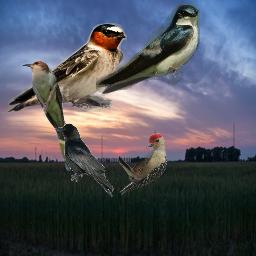Crow: (54, 123, 114, 197)
Cuckoo: (22, 60, 81, 171)
Swallow: (6, 22, 127, 112), (96, 4, 200, 96)
Woodpecker: (119, 133, 167, 196)
